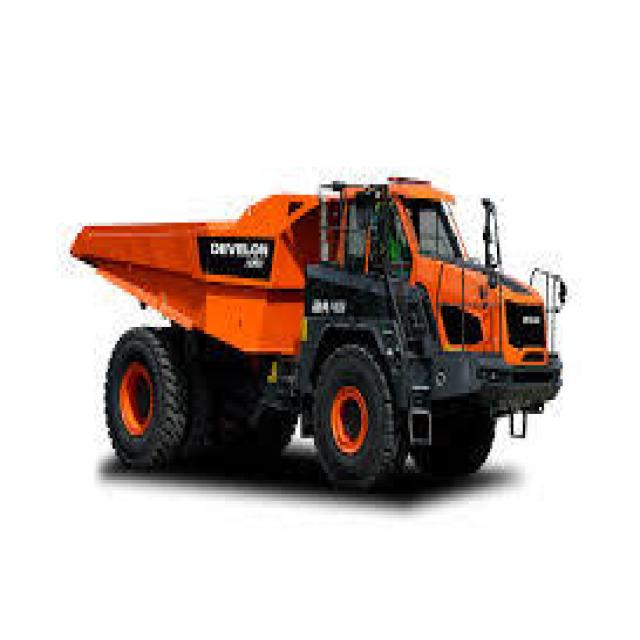dump_truck: (63, 170, 568, 506)
